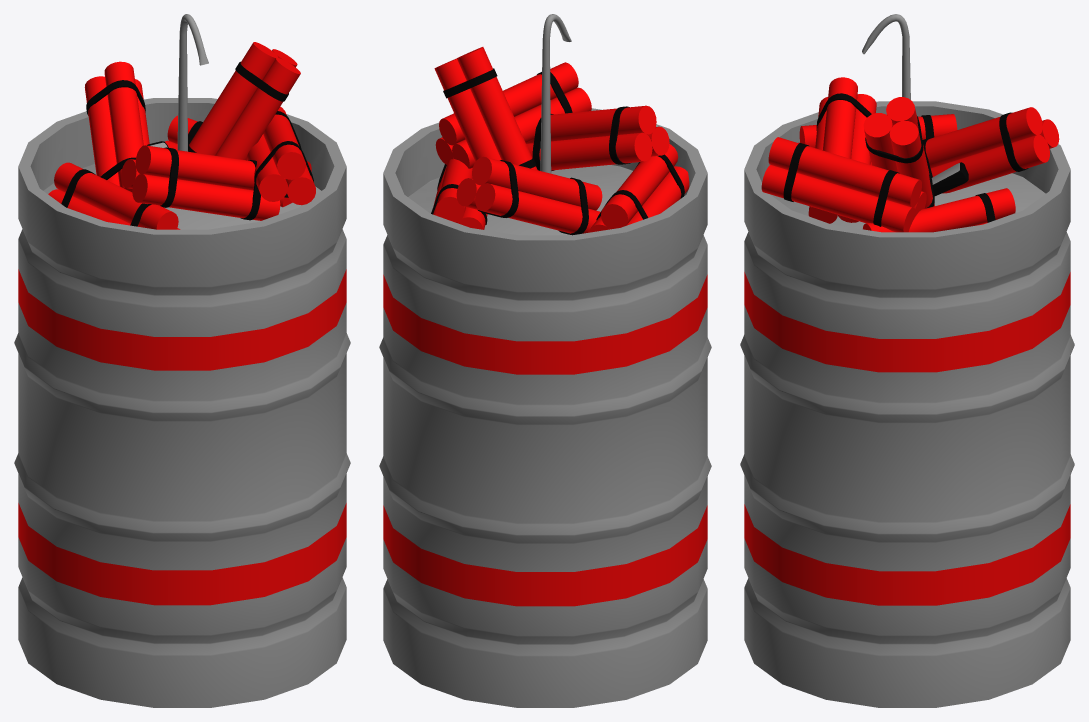
The model's file is sud_tnt.FBX.
3 views of the same model, side by side, from view 1: azimuth 30°, elevation 25°; view 2: azimuth 150°, elevation 25°; view 3: azimuth 270°, elevation 25° (orthographic).
Parts seen in each view (by area): view 1: Cylinder001, NGon004, NGon008, NGon006, NGon003, NGon007, NGon005; view 2: Cylinder001, NGon006, NGon004, NGon008, NGon007, NGon003, NGon005; view 3: Cylinder001, NGon007, NGon006, NGon008, NGon004, NGon005, NGon003.
Boxes of the visible parts, x1,y1,x2,y2 form: Cylinder001: (14,14,350,707); NGon004: (121,145,280,220); NGon008: (188,42,300,160); NGon006: (84,61,149,191); NGon003: (48,162,180,229); NGon007: (246,106,315,205); NGon005: (165,115,311,207); Cylinder001: (379,14,711,707); NGon006: (456,156,602,235); NGon004: (526,105,669,170); NGon008: (434,47,537,170); NGon007: (435,62,591,168); NGon003: (588,144,689,232); NGon005: (431,159,487,229); Cylinder001: (740,14,1074,707); NGon007: (761,137,926,232); NGon006: (922,107,1059,193); NGon008: (863,97,934,208); NGon004: (808,77,876,223); NGon005: (863,188,1015,232); NGon003: (798,114,957,165).
Bounding box in the file's own units: 45.1 × 94.56 × 45.79.
